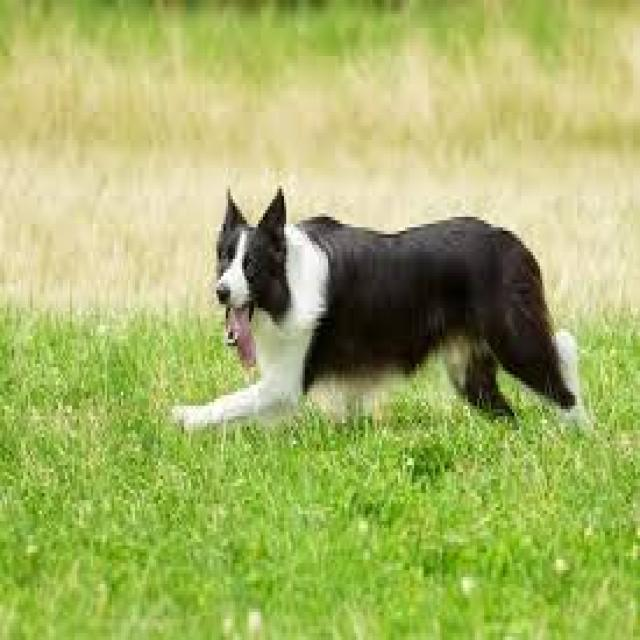BORDER_COLLIE: (158, 176, 598, 469)
